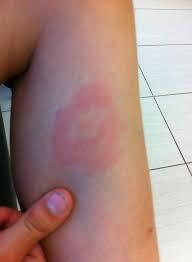Tick: (47, 84, 120, 176)
